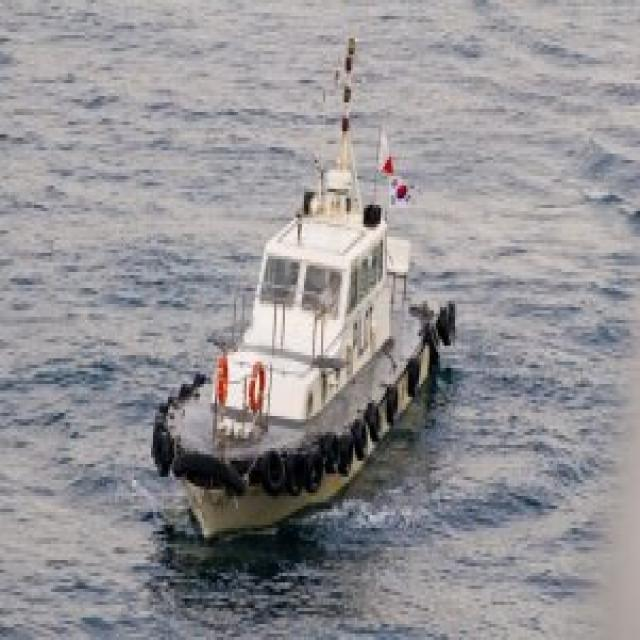Ship: (137, 33, 471, 574)
